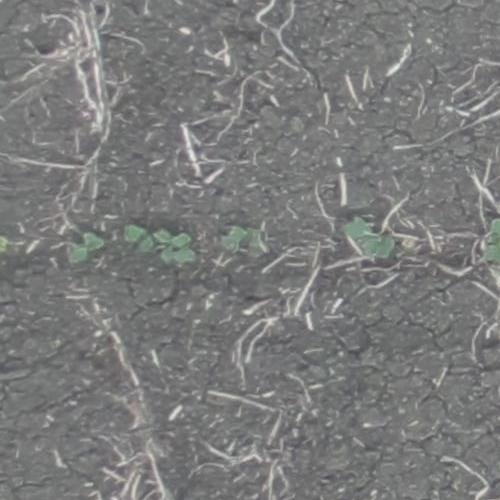clumped: (125, 224, 192, 249), (486, 220, 499, 265)
isolated: (343, 217, 394, 259), (68, 232, 103, 262), (216, 224, 244, 251), (161, 248, 198, 263)
